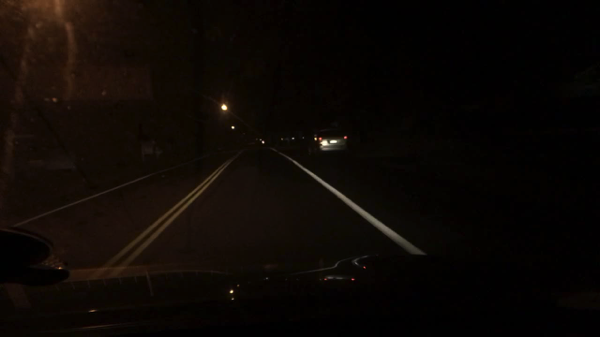car: (1, 134, 80, 179), (307, 128, 349, 158), (254, 137, 270, 146)
traffic sign: (141, 140, 157, 155)
